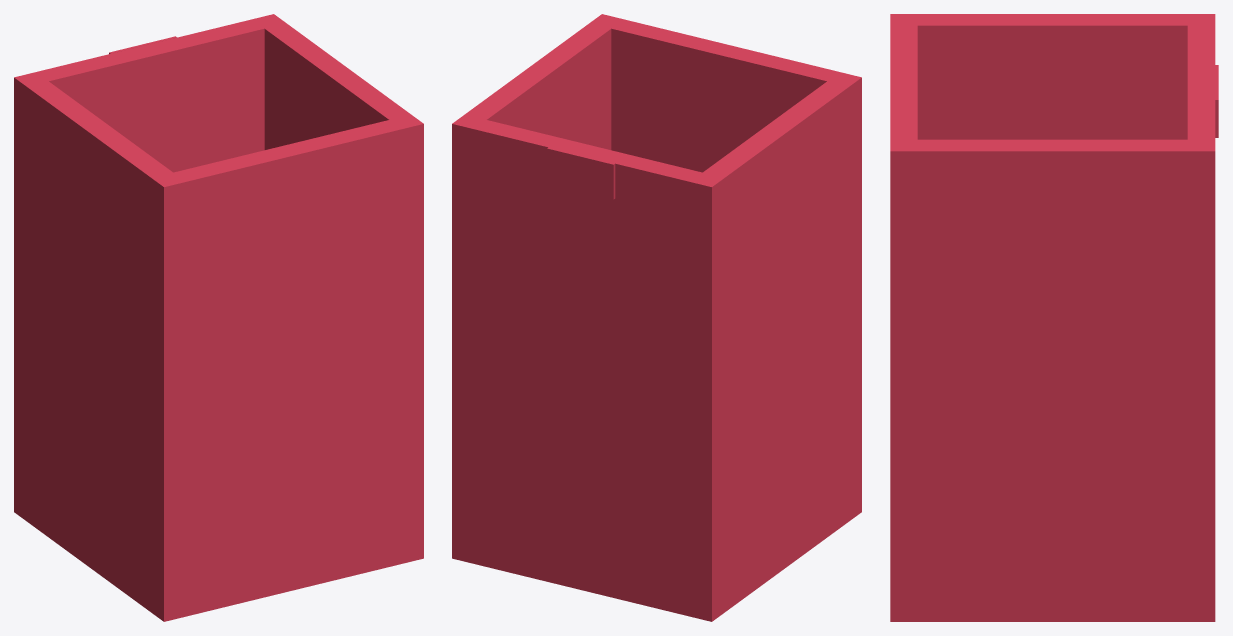
Rendered from Itr_Trashcan2_Body_04.FBX.
3 views of the same model, side by side, from view 1: azimuth 30°, elevation 25°; view 2: azimuth 150°, elevation 25°; view 3: azimuth 270°, elevation 25° (orthographic). The views are drawn at different scales.
Visible parts, largest first — view 1: Itr_Trashcan2_Body_04; view 2: Itr_Trashcan2_Body_04; view 3: Itr_Trashcan2_Body_04.
Boxes of the visible parts, x1,y1,x2,y2 form: Itr_Trashcan2_Body_04: (14,14,423,621); Itr_Trashcan2_Body_04: (452,14,861,621); Itr_Trashcan2_Body_04: (890,14,1218,621).
Bounding box in the file's own units: 14.85 × 23.74 × 15.01.
